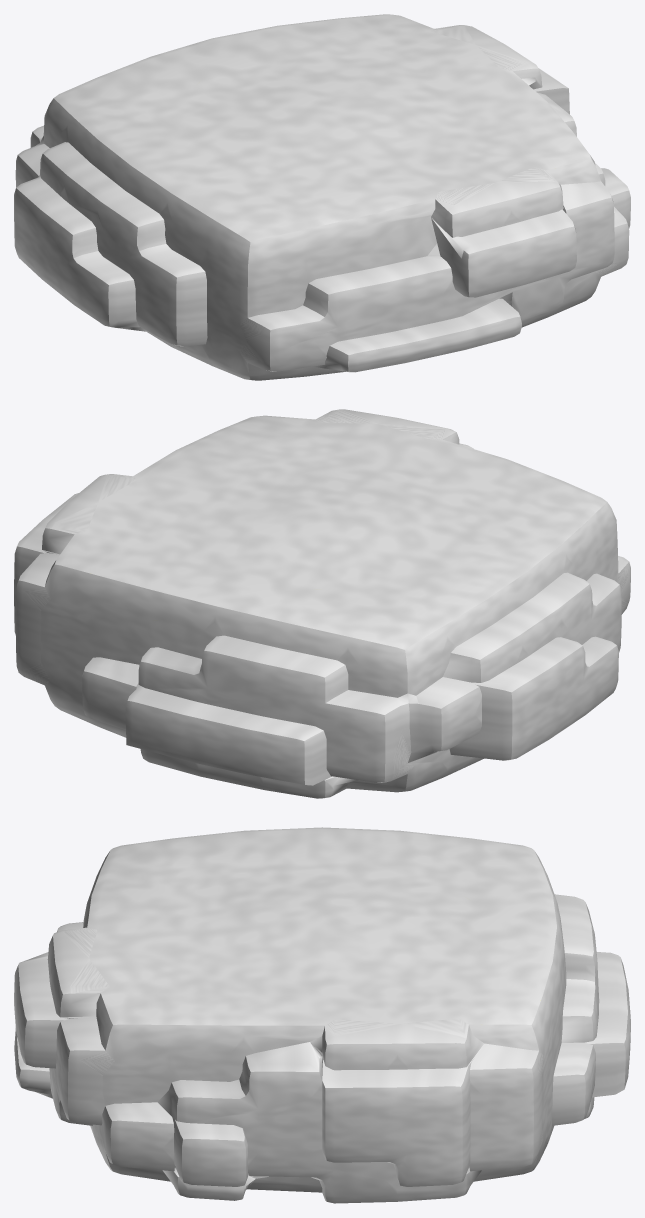
The model's file is Cloud_v2.FBX.
3 views of the same model, one above another, from view 1: azimuth 30°, elevation 25°; view 2: azimuth 150°, elevation 25°; view 3: azimuth 270°, elevation 25° (orthographic). The views are drawn at different scales.
Parts seen in each view (by area): view 1: Box001; view 2: Box001; view 3: Box001.
Boxes of the visible parts, x1,y1,x2,y2 form: Box001: (14, 14, 630, 380); Box001: (14, 409, 630, 798); Box001: (14, 827, 630, 1203).
Size of the model in its own units: 13.98 by 4.68 by 13.98.
1 material, 1 textured.
